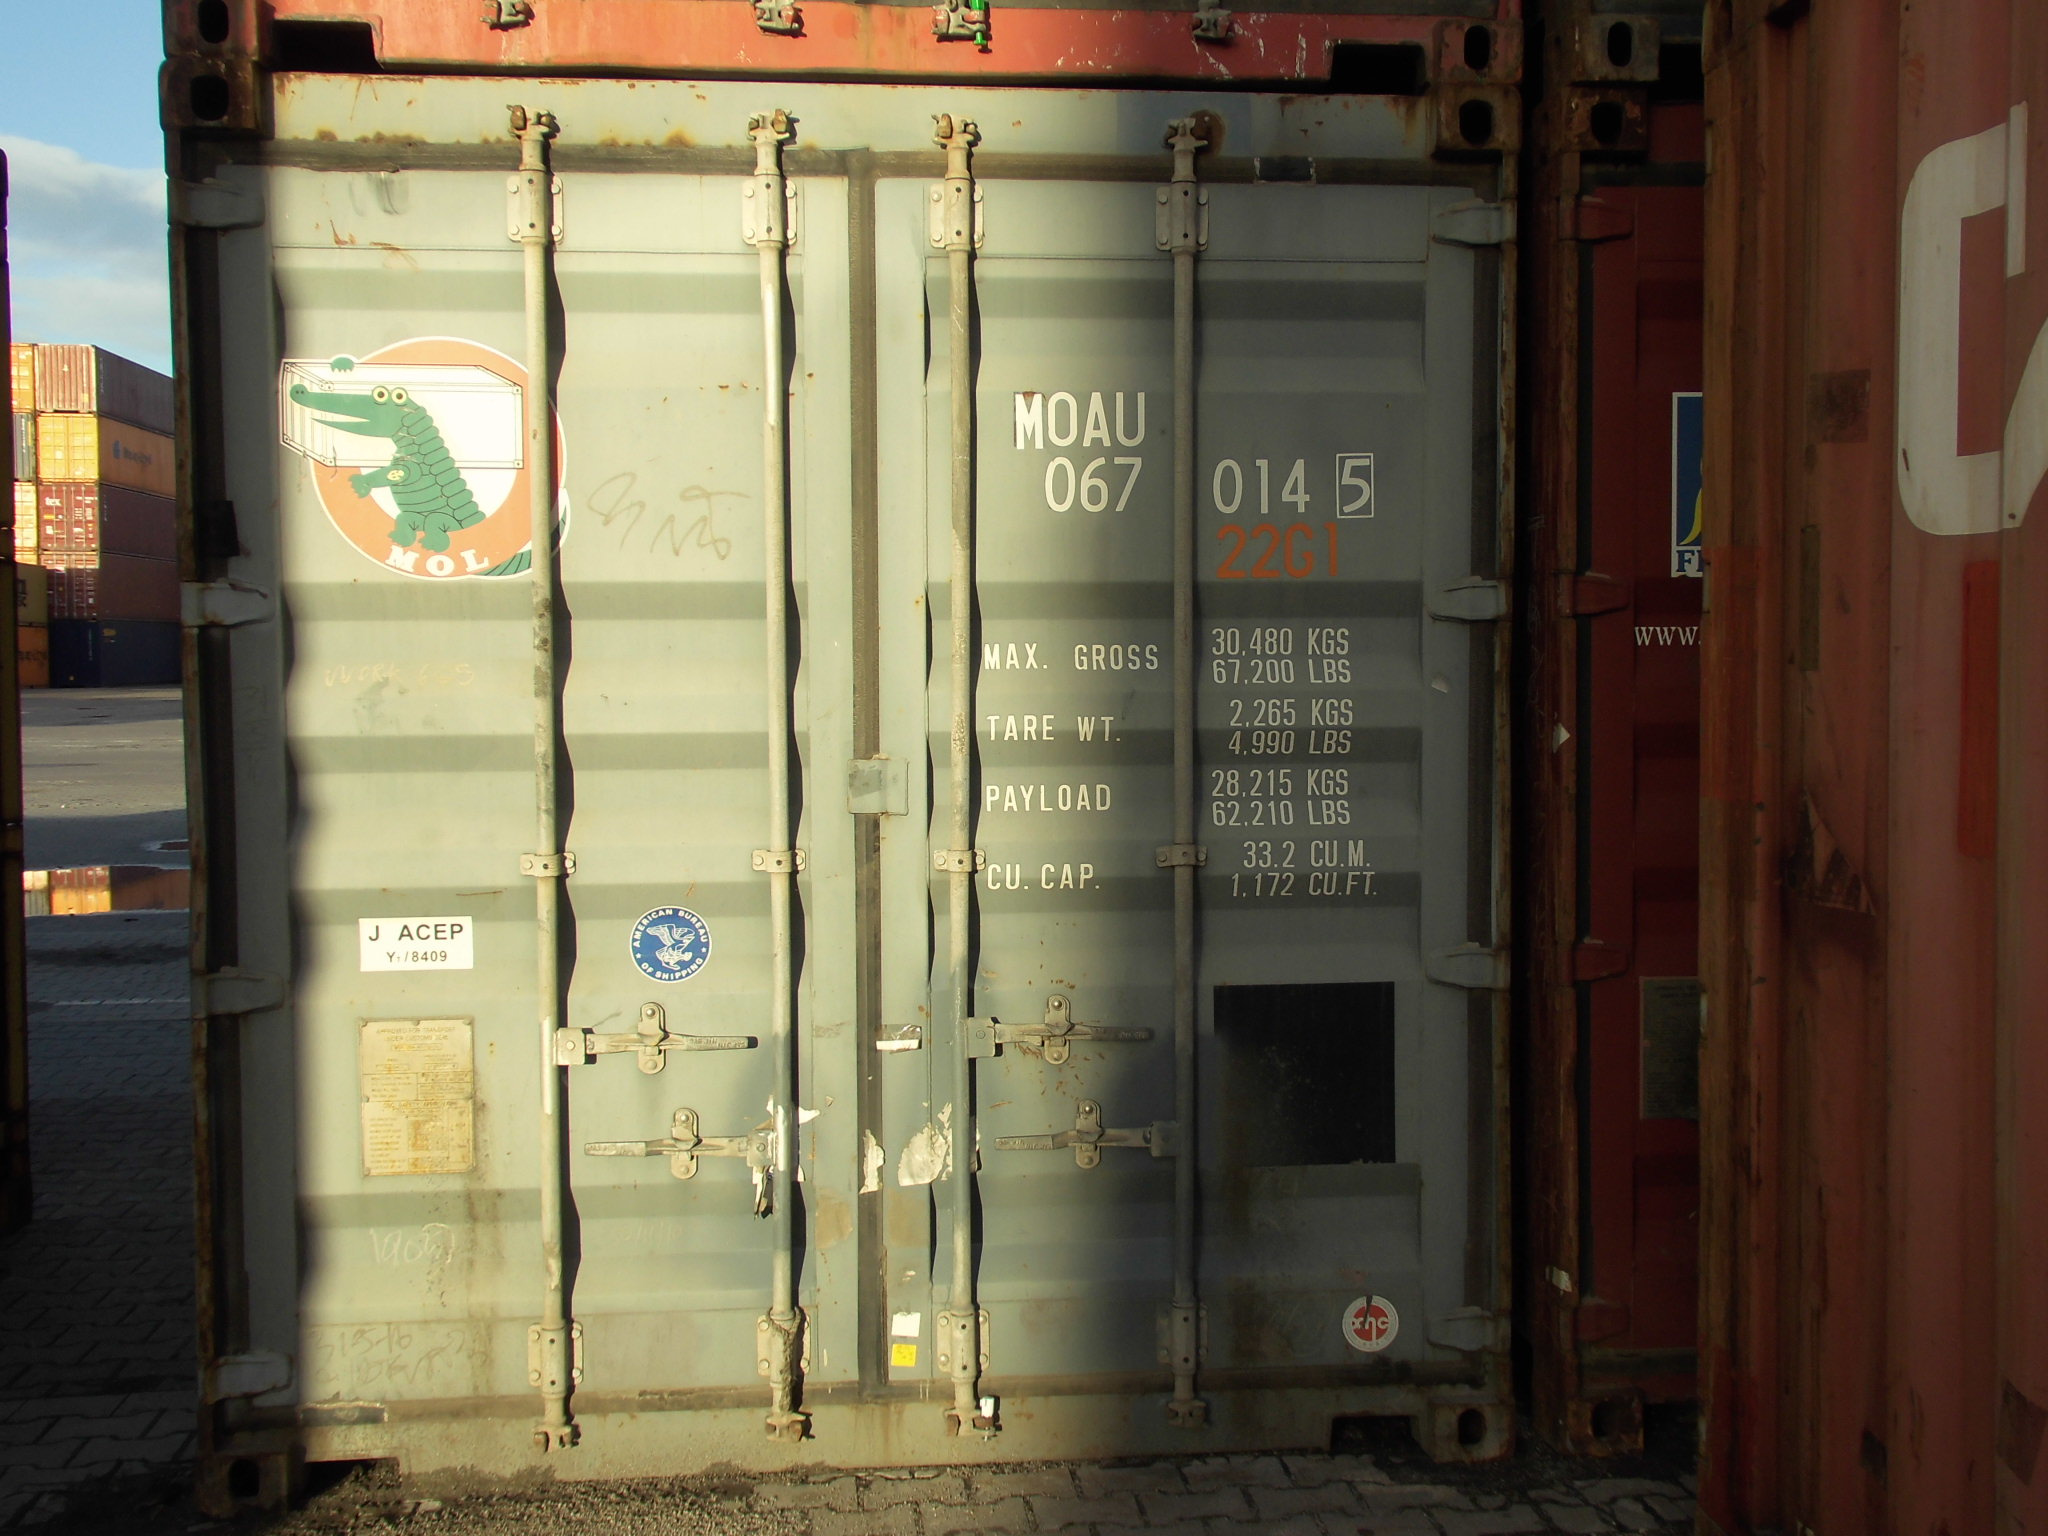container_door: (161, 65, 1530, 1471)
